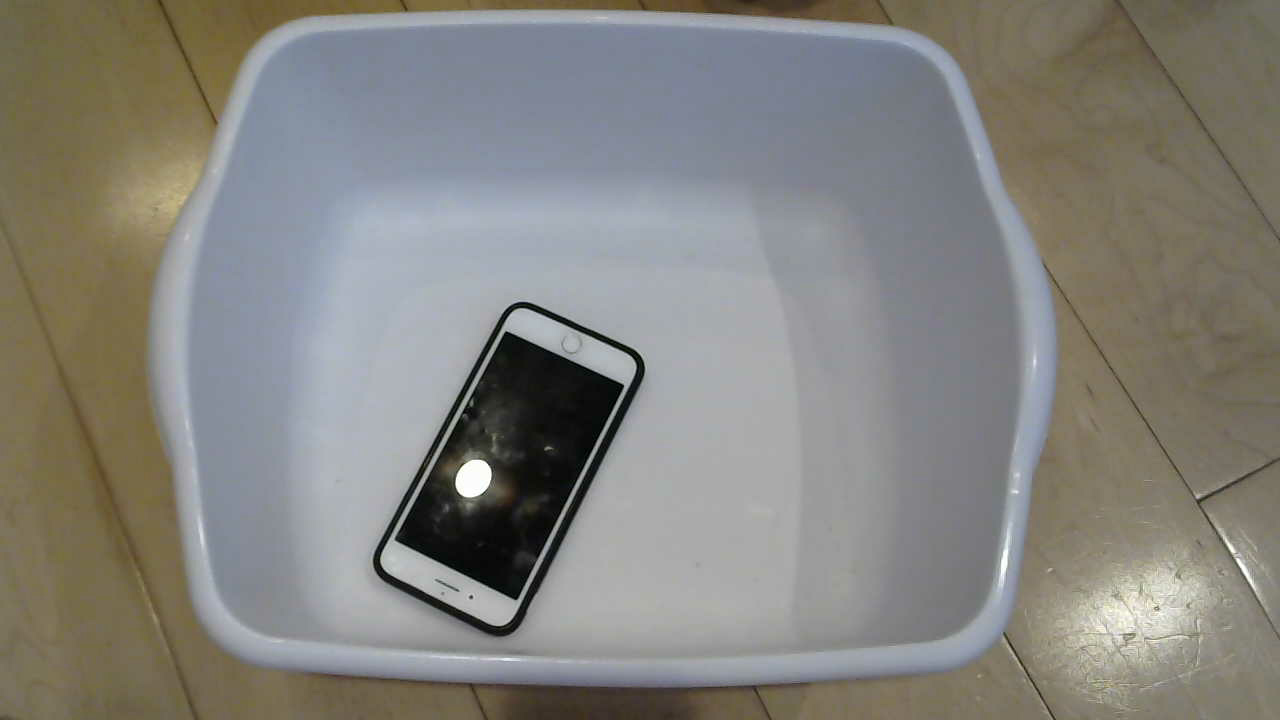phone: (378, 296, 657, 630)
